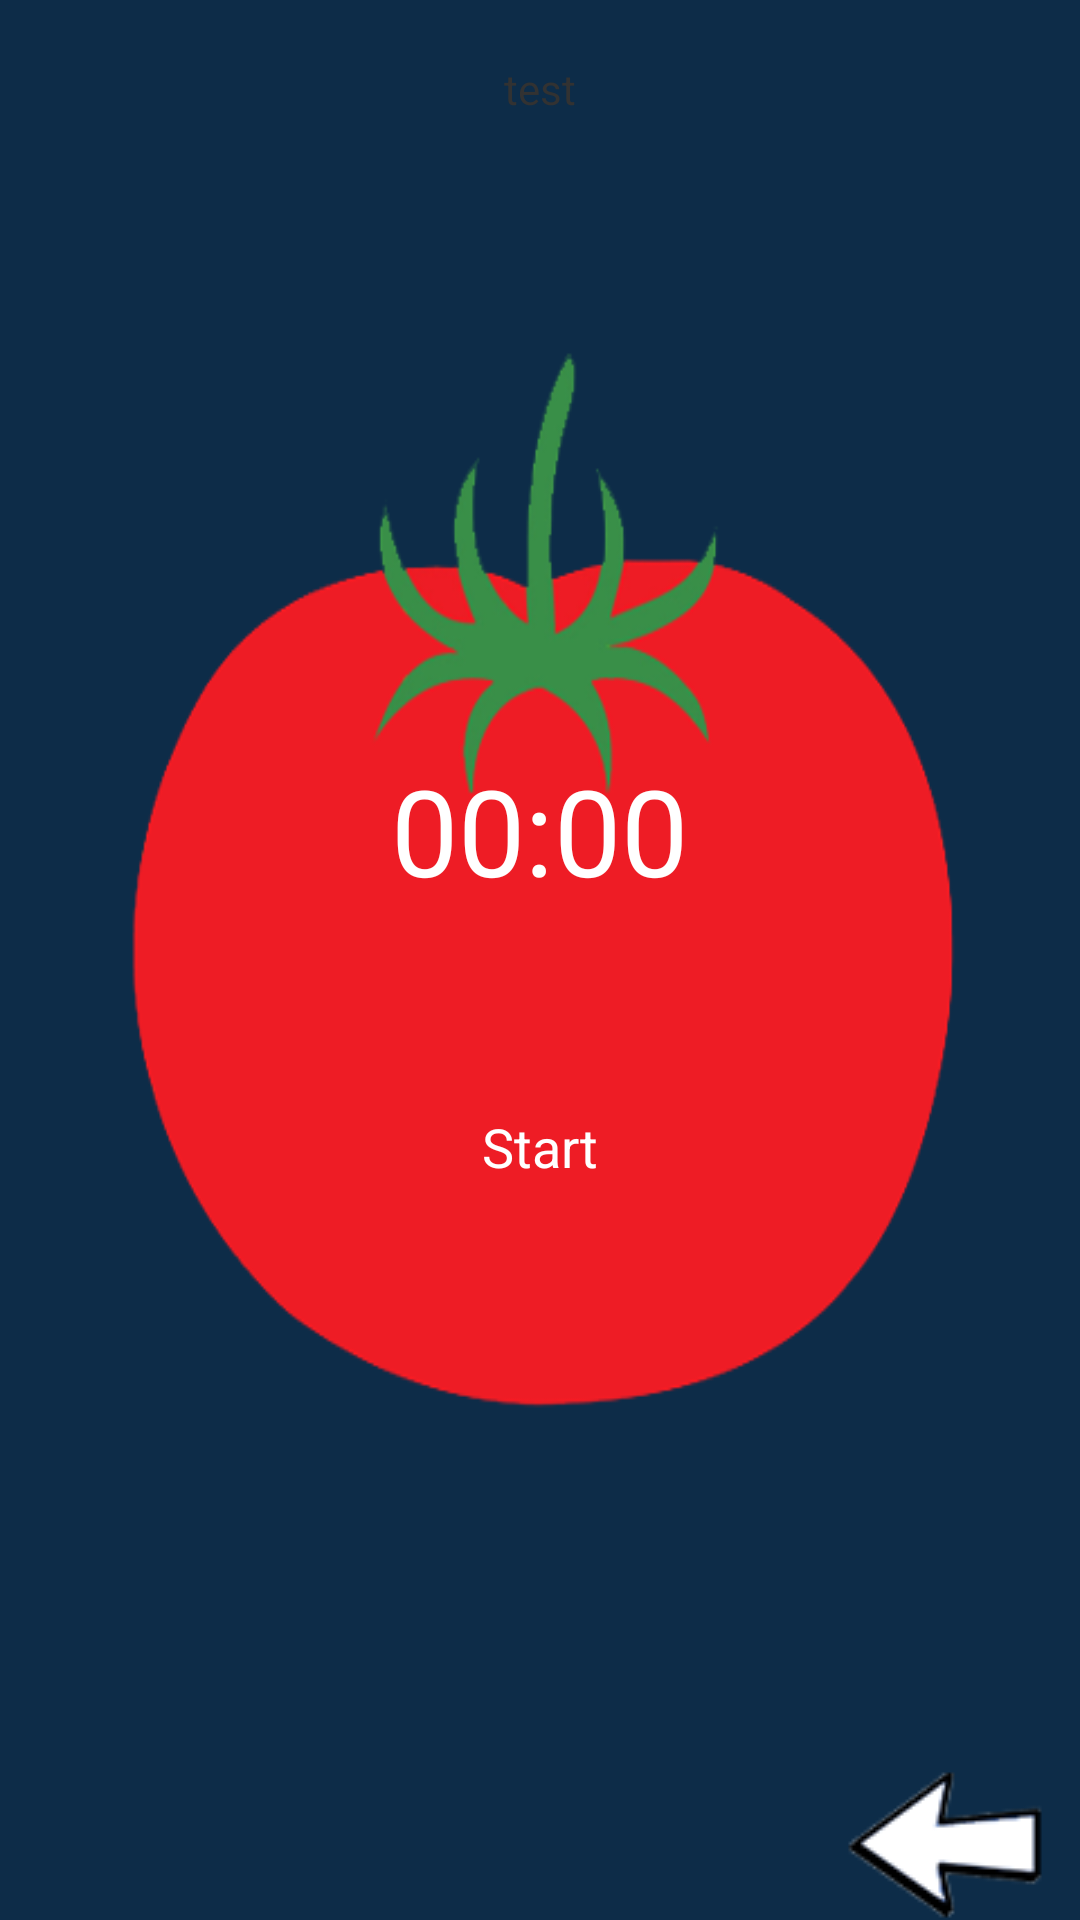

Icon click points for this 1080w x 1920h phone screenshot, format (x=x, y=y):
backarrow: (x=945, y=1845)
